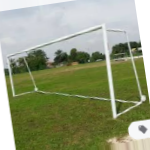goals: (6, 23, 144, 117)
